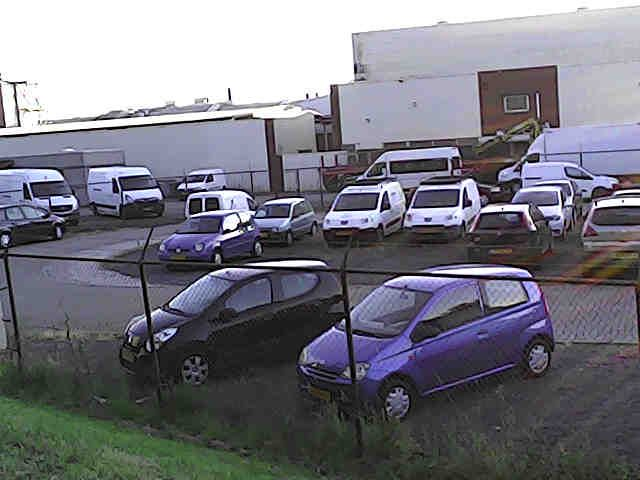suv: (351, 265, 553, 418), (151, 260, 342, 384), (158, 211, 262, 264), (323, 179, 405, 244), (467, 204, 552, 265), (404, 177, 481, 237), (581, 196, 639, 275), (522, 162, 618, 198), (511, 186, 572, 239), (254, 197, 317, 244), (0, 204, 64, 248), (533, 179, 583, 228), (185, 190, 256, 217), (176, 168, 225, 198), (612, 185, 640, 197)
whitevan: (323, 179, 405, 245), (404, 177, 482, 237), (358, 147, 462, 189), (0, 169, 78, 223), (87, 166, 164, 218), (185, 190, 256, 217), (177, 169, 226, 197)
